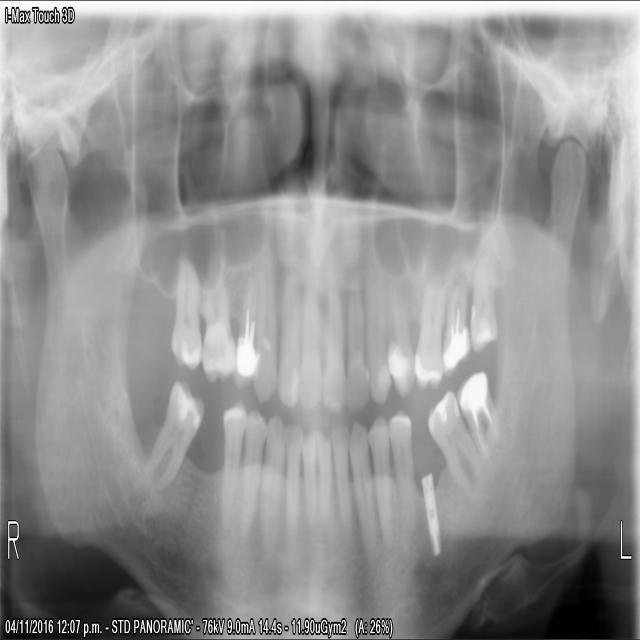LCD: (347, 418, 378, 552)
LCU: (366, 294, 391, 410)
LID: (330, 421, 350, 517), (317, 422, 334, 517)
LIU: (320, 286, 346, 421), (343, 299, 368, 416)
LMD: (422, 388, 487, 489), (457, 366, 505, 460)
LMU: (441, 282, 470, 380), (468, 275, 497, 355)
LPMD: (366, 408, 396, 531), (386, 400, 416, 523)
LPMU: (411, 283, 446, 385), (387, 293, 414, 399)
RCD: (255, 412, 285, 531)
RCU: (247, 259, 278, 403)
RID: (281, 421, 302, 527), (301, 427, 318, 520)
RIU: (276, 274, 299, 416), (299, 283, 322, 410)
RMD: (146, 366, 212, 490)
RMU: (164, 255, 203, 370)
RPMD: (231, 402, 266, 529), (219, 392, 245, 520)
RPMU: (199, 276, 234, 388)
